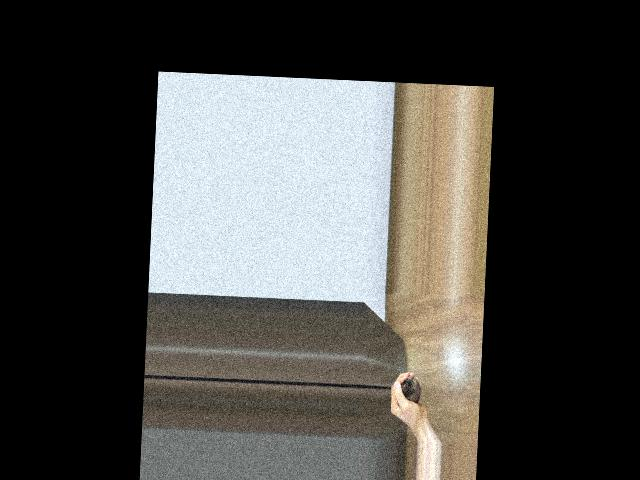beet: (381, 374, 421, 403)
